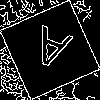A: (25, 25, 74, 79)
